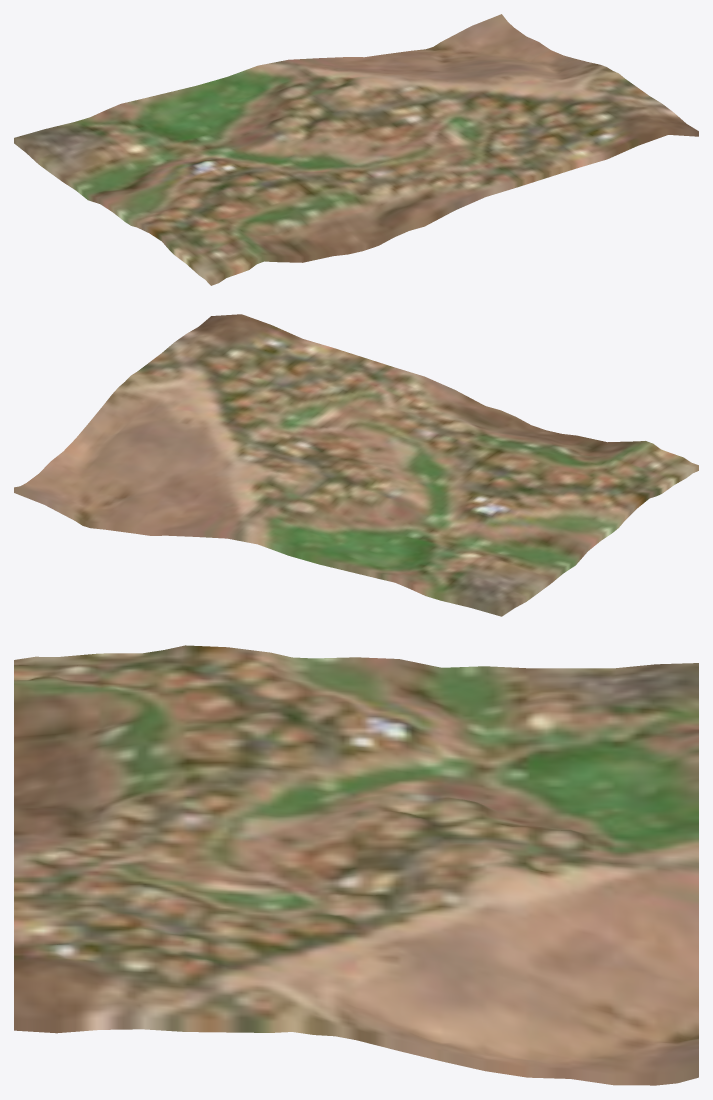
The model's file is terrain_r7_c2_lod2.glb.
3 views of the same model, one above another, from view 1: azimuth 30°, elevation 25°; view 2: azimuth 150°, elevation 25°; view 3: azimuth 270°, elevation 25° (orthographic). The views are drawn at different scales.
Visible parts, largest first — view 1: terrain_r7_c2_lod2; view 2: terrain_r7_c2_lod2; view 3: terrain_r7_c2_lod2.
Boxes of the visible parts, x1,y1,x2,y2 form: terrain_r7_c2_lod2: [14, 14, 698, 285]; terrain_r7_c2_lod2: [14, 314, 698, 616]; terrain_r7_c2_lod2: [14, 645, 698, 1085].
Bounding box in the file's own units: 1125 × 129 × 787.
1 material, 1 textured.
